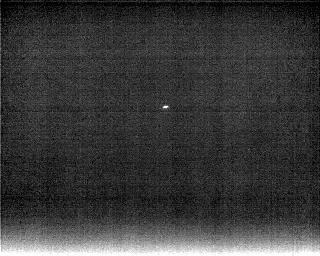BIRD: (161, 103, 170, 112)
